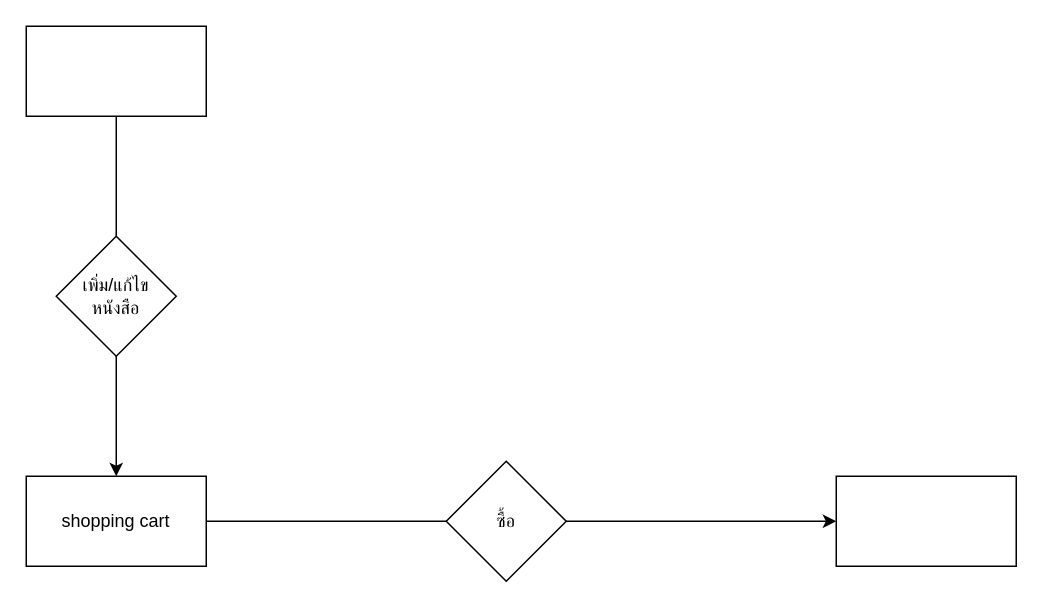
Some shapes in this 1043 by 608 pixel diagram are drawn without their labels. Here are the shapes that lost their labels. From the top down, the box of each, then its label:
(25, 25, 206, 116): user
(835, 475, 1016, 566): database
